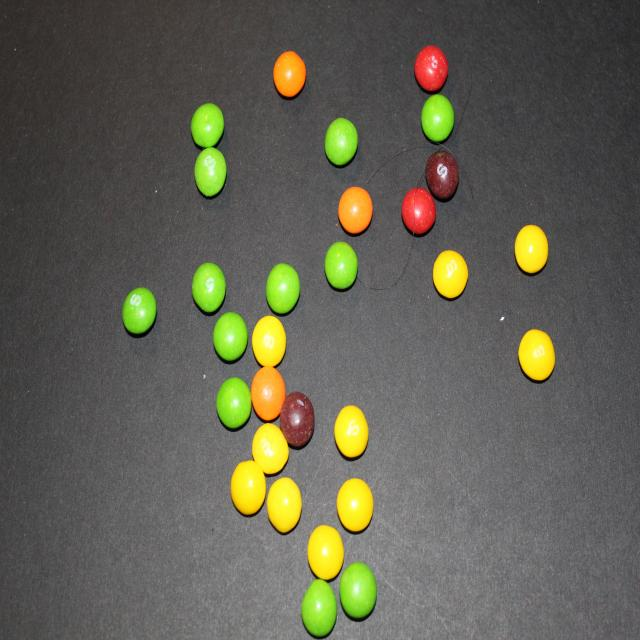smartie: (340, 563, 377, 619), (302, 579, 337, 638), (308, 526, 344, 581), (230, 461, 266, 516), (337, 479, 374, 532), (267, 478, 302, 534), (280, 392, 315, 447), (519, 329, 556, 380), (252, 423, 289, 474), (251, 366, 285, 421), (216, 377, 251, 429), (335, 406, 369, 458), (252, 315, 286, 366), (433, 250, 469, 298), (266, 263, 300, 313), (426, 149, 460, 198), (213, 312, 247, 361), (192, 262, 225, 312), (516, 224, 549, 273), (122, 287, 156, 334), (339, 186, 373, 233), (325, 117, 358, 165), (325, 241, 358, 289), (422, 93, 455, 141), (194, 146, 226, 195), (402, 187, 436, 233), (415, 44, 449, 90), (190, 102, 224, 147), (273, 50, 306, 95)
